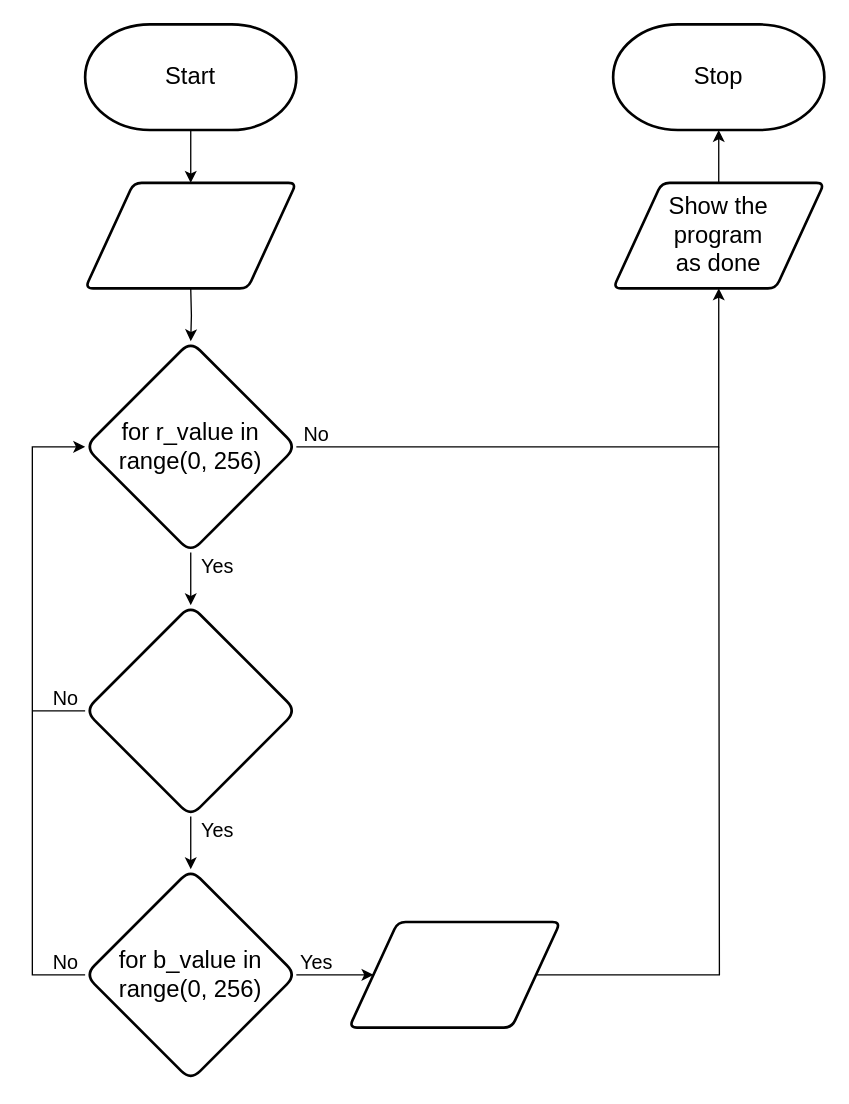
Image size: 849x1104. Some labels were removed from this diagram. Each missing label, with the box of its shape:
for g_value in range(0, 256): (83, 603, 297, 817)
Set a dummy value: (83, 181, 297, 289)
Show the r value, the b value, and the g value: (347, 920, 561, 1028)
